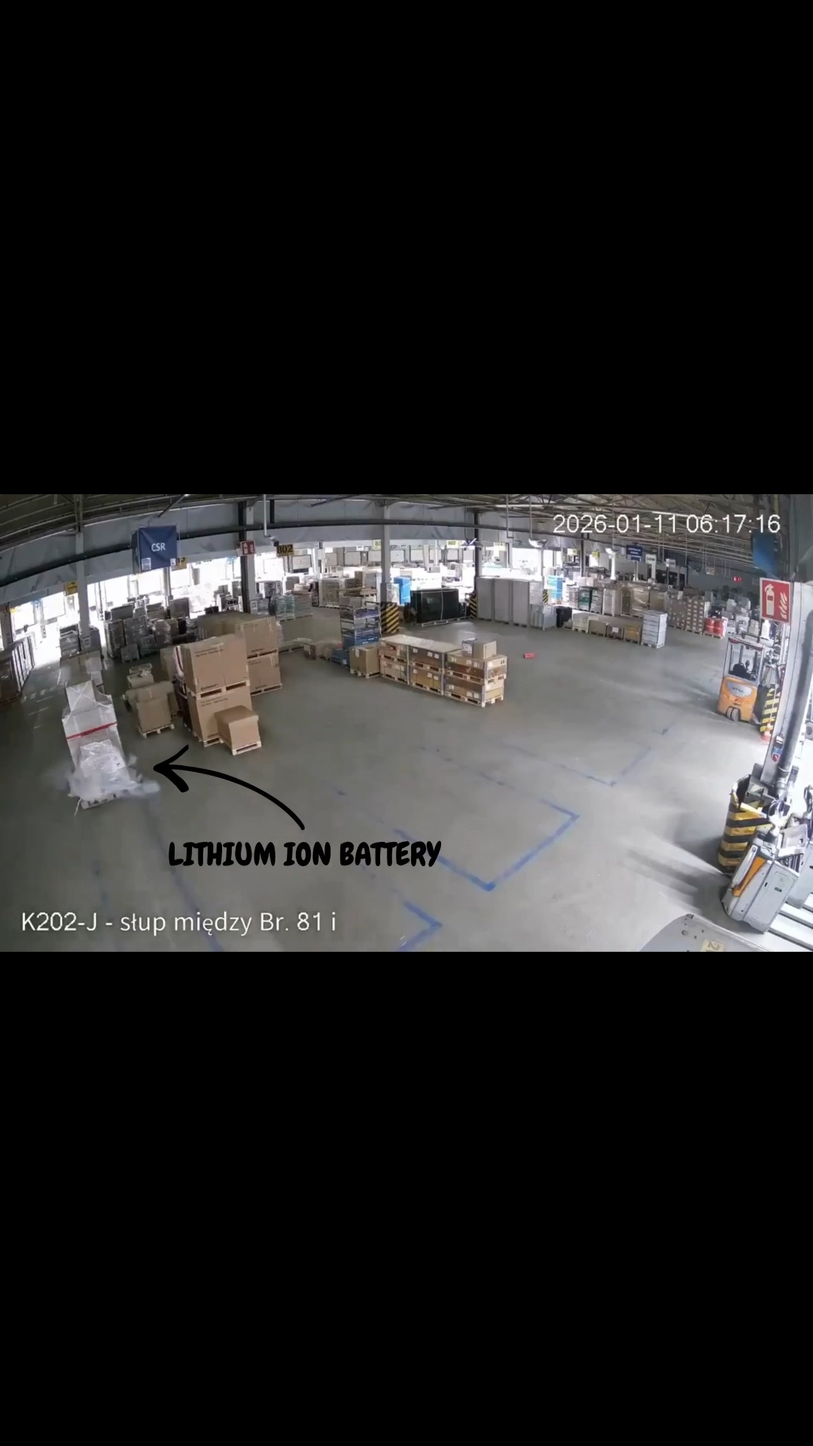smoke: (64, 732, 159, 825)
